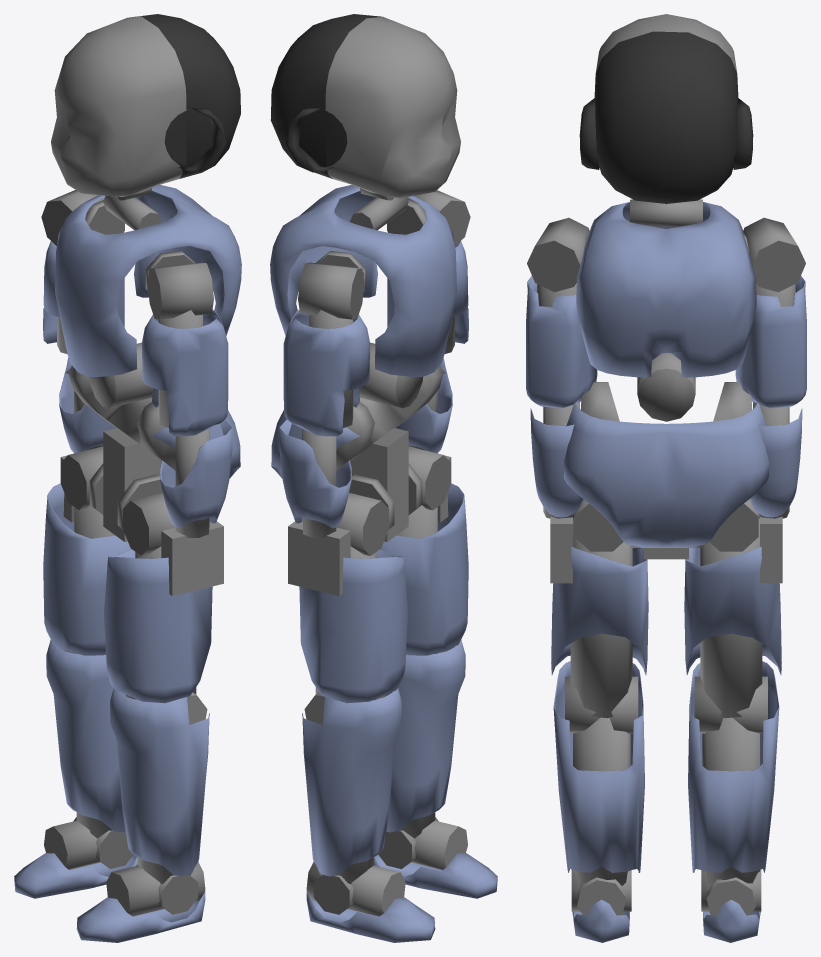
File: anim.dae
The picture shows the model from 3 angles, left to right: view 1: azimuth 30°, elevation 25°; view 2: azimuth 150°, elevation 25°; view 3: azimuth 270°, elevation 25°; orthographic projection. The views are drawn at different scales.
Parts seen in each view (by area): view 1: head_mesh, torso_mesh, l_shank_mesh, l_thigh_mesh, r_shank_mesh, r_thigh_mesh, l_arm_mesh, l_forearm_mesh, l_foot_mesh, pelvis_mesh, r_foot_mesh, l_hand_mesh (+14 smaller); view 2: head_mesh, torso_mesh, r_shank_mesh, r_thigh_mesh, l_shank_mesh, l_thigh_mesh, r_arm_mesh, r_forearm_mesh, pelvis_mesh, r_foot_mesh, l_foot_mesh, r_hand_mesh (+14 smaller); view 3: pelvis_mesh, torso_mesh, head_mesh, l_thigh_mesh, r_thigh_mesh, l_shank_mesh, r_shank_mesh, r_arm_mesh, l_arm_mesh, r_forearm_mesh, l_forearm_mesh, r_shoulder_2_mesh (+10 smaller).
Boxes of the visible parts, left/top/right/bottom form: head_mesh: left=51, top=14, right=240, bottom=196; torso_mesh: left=55, top=185, right=241, bottom=376; l_shank_mesh: left=110, top=688, right=209, bottom=884; l_thigh_mesh: left=104, top=546, right=212, bottom=724; r_shank_mesh: left=46, top=640, right=125, bottom=838; r_thigh_mesh: left=43, top=483, right=131, bottom=655; l_arm_mesh: left=142, top=310, right=228, bottom=436; l_forearm_mesh: left=160, top=419, right=232, bottom=537; l_foot_mesh: left=76, top=862, right=205, bottom=942; pelvis_mesh: left=65, top=342, right=240, bottom=478; r_foot_mesh: left=14, top=820, right=137, bottom=898; l_hand_mesh: left=161, top=521, right=223, bottom=596; head_mesh: left=270, top=14, right=460, bottom=198; torso_mesh: left=270, top=185, right=456, bottom=376; r_shank_mesh: left=302, top=688, right=401, bottom=884; r_thigh_mesh: left=299, top=546, right=407, bottom=724; l_shank_mesh: left=386, top=640, right=465, bottom=838; l_thigh_mesh: left=380, top=483, right=468, bottom=655; r_arm_mesh: left=283, top=310, right=369, bottom=436; r_forearm_mesh: left=279, top=419, right=351, bottom=537; pelvis_mesh: left=271, top=342, right=446, bottom=478; r_foot_mesh: left=306, top=862, right=435, bottom=942; l_foot_mesh: left=374, top=820, right=497, bottom=898; r_hand_mesh: left=288, top=521, right=350, bottom=596; pelvis_mesh: left=564, top=353, right=768, bottom=547; torso_mesh: left=576, top=202, right=756, bottom=377; head_mesh: left=579, top=14, right=753, bottom=203; l_thigh_mesh: left=551, top=518, right=648, bottom=733; r_thigh_mesh: left=684, top=518, right=781, bottom=733; l_shank_mesh: left=553, top=661, right=644, bottom=885; r_shank_mesh: left=688, top=661, right=779, bottom=885; r_arm_mesh: left=735, top=276, right=806, bottom=408; l_arm_mesh: left=526, top=276, right=597, bottom=408; r_forearm_mesh: left=749, top=402, right=802, bottom=518; l_forearm_mesh: left=530, top=402, right=583, bottom=518; r_shoulder_2_mesh: left=743, top=217, right=805, bottom=292.
Size of the model in its own units: 0.2276 by 0.2951 by 1.04.
